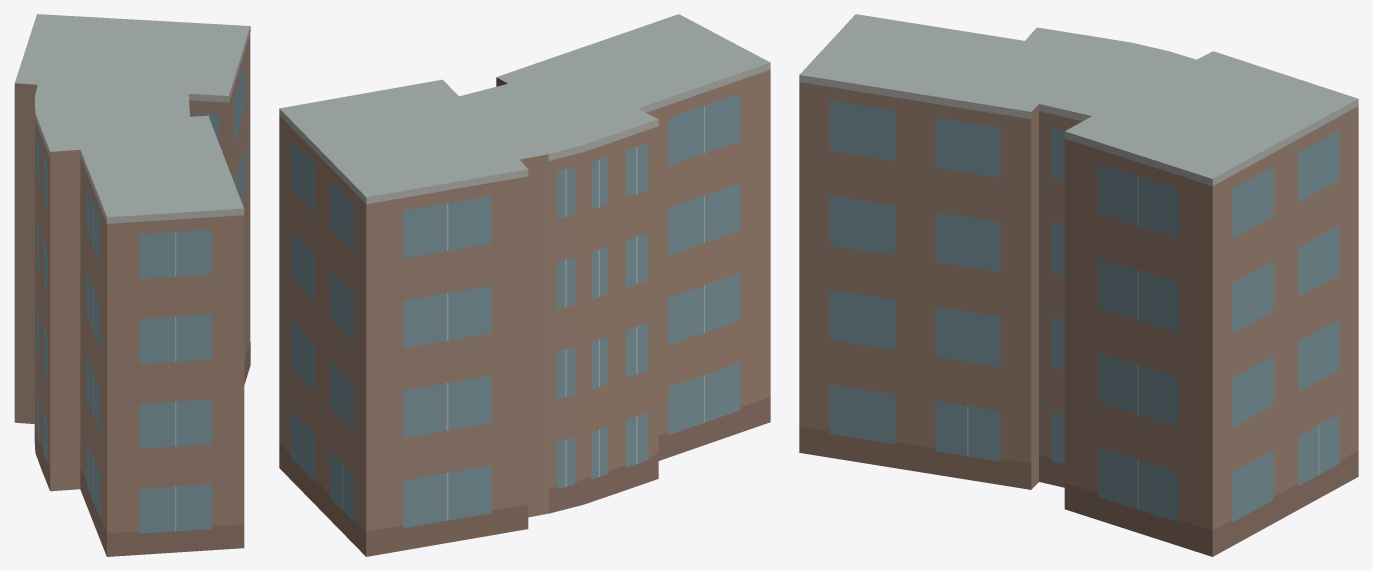
Rendered from survey-upis-32510876.glb.
3 renders of one model, left to right at view 1: azimuth 30°, elevation 25°; view 2: azimuth 150°, elevation 25°; view 3: azimuth 270°, elevation 25°, orthographic. The views are drawn at different scales.
Visible parts, largest first — view 1: survey-upis-32510876.tmp; view 2: survey-upis-32510876.tmp; view 3: survey-upis-32510876.tmp.
Boxes of the visible parts, x1=… form: survey-upis-32510876.tmp: x1=14, y1=14, x2=250, y2=556; survey-upis-32510876.tmp: x1=279, y1=14, x2=770, y2=556; survey-upis-32510876.tmp: x1=799, y1=14, x2=1358, y2=556.
Bounding box in the file's own units: 11.9 × 12.7 × 17.04.
